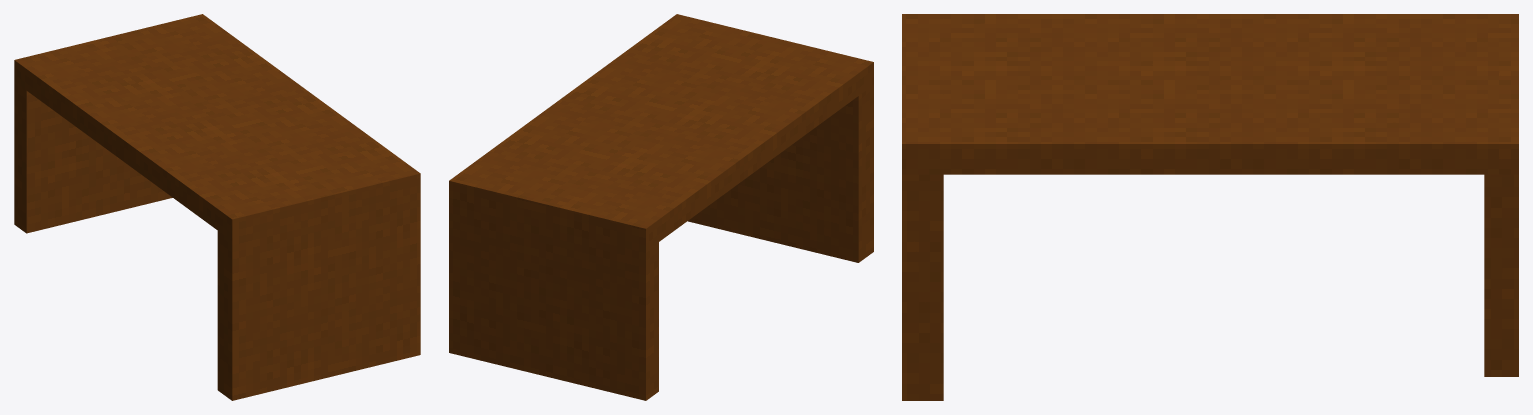
The model's file is desk.obj.
The picture shows the model from 3 angles, left to right: view 1: azimuth 30°, elevation 25°; view 2: azimuth 150°, elevation 25°; view 3: azimuth 270°, elevation 25°; orthographic projection. The views are drawn at different scales.
Visible parts, largest first — view 1: Cube; view 2: Cube; view 3: Cube.
Boxes of the visible parts, <box> form: Cube: <box>14,14,420,400</box>; Cube: <box>449,14,873,400</box>; Cube: <box>902,14,1518,400</box>.
Size of the model in its own units: 1.09 by 1.01 by 2.19.
1 material, 1 textured.
